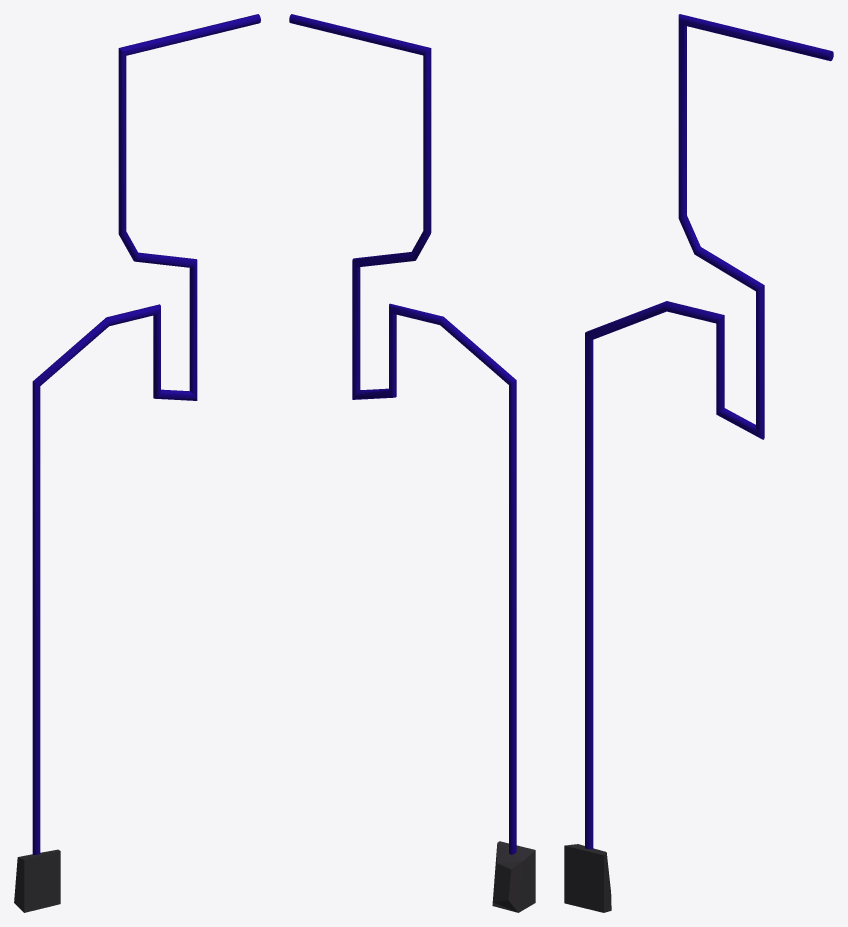
File: Arcade_Cableswich.FBX
3 renders of one model, left to right at view 1: azimuth 30°, elevation 25°; view 2: azimuth 150°, elevation 25°; view 3: azimuth 330°, elevation 25°, orthographic. The views are drawn at different scales.
Visible parts, largest first — view 1: Cablecorriente; view 2: Cablecorriente; view 3: Cablecorriente.
Boxes of the visible parts, <box> form: Cablecorriente: <box>14,14,260,912</box>; Cablecorriente: <box>289,14,535,912</box>; Cablecorriente: <box>564,14,833,912</box>.
Bounding box in the file's own units: 9.71 × 32.54 × 1.18.
